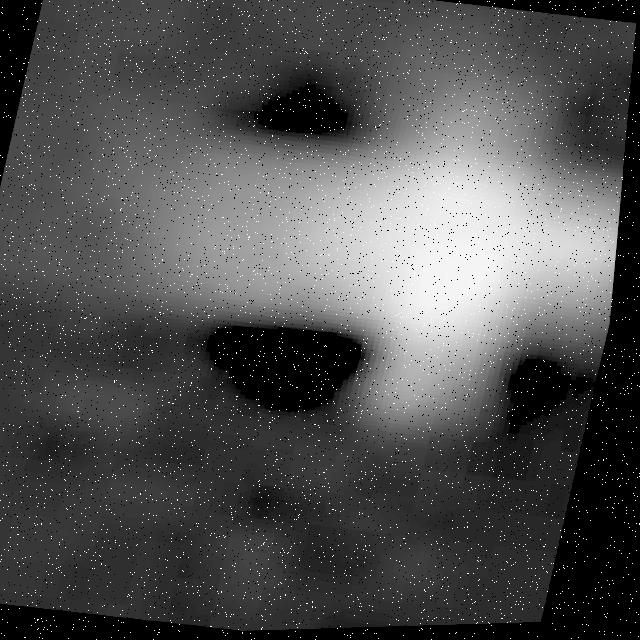person: (117, 29, 638, 457)
